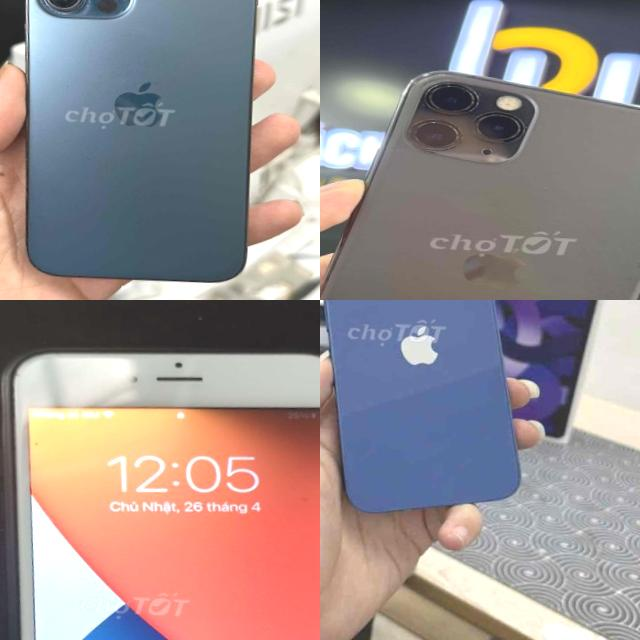gen_11: (320, 58, 640, 300)
gen_12_13: (0, 0, 279, 300), (320, 300, 537, 526)
scratch: (0, 333, 320, 640)
